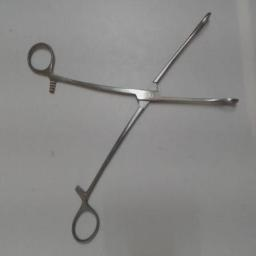Sponge Forceps: (24, 6, 246, 248)
